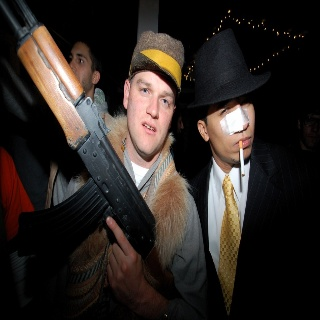rifle: (1, 1, 168, 283)
